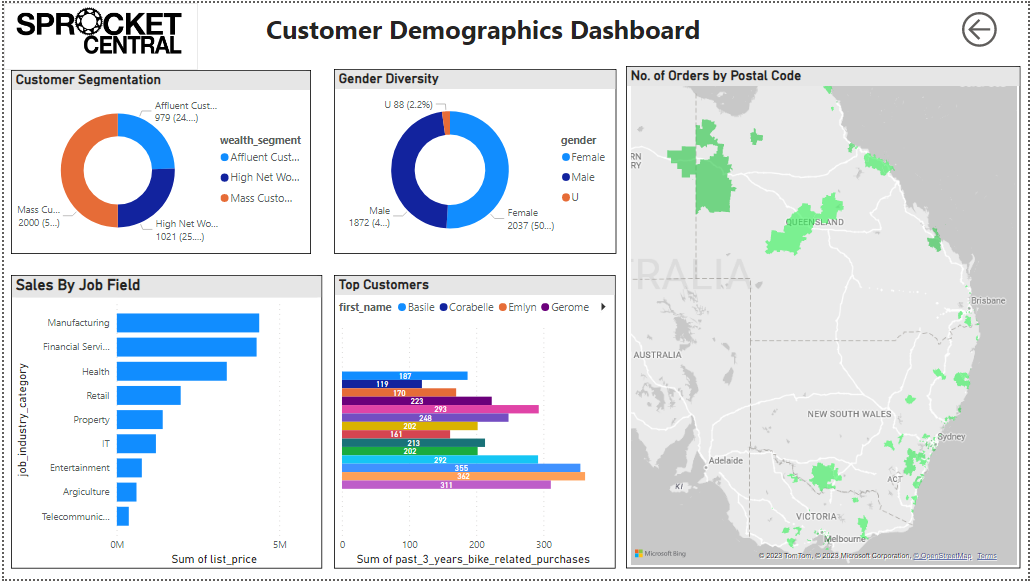

The page's visual inventory and layout, read from the dashboard file:
{"tool":"powerbi","page":{"name":"Demographics db","canvas":[1280,720],"ordinal":1},"visuals":[{"type":"image","box":[0,0,242.2,83.3],"z":0},{"type":"textbox","box":[248.9,5.6,708.9,73.3],"z":1000},{"type":"actionButton","box":[1191.2,5,58.8,56.2],"z":2000},{"type":"donutChart","title":"Customer Segmentation","fields":{"Y":["Count(CustomerDemographic.customer_id)"],"Series":["CustomerDemographic.wealth_segment"]},"box":[8.8,83.8,375,230],"z":3000},{"type":"clusteredBarChart","title":"Sales By Job Field","fields":{"Category":["CustomerDemographic.job_industry_category"],"Y":["Sum(Transactions.list_price)"]},"box":[8.9,340,388.9,366.7],"z":4000},{"type":"donutChart","title":"Gender Diversity","fields":{"Y":["CountNonNull(CustomerDemographic.gender)"],"Series":["CustomerDemographic.gender"]},"box":[412.5,82.5,352.5,231.2],"z":5000},{"type":"filledMap","title":"No. of Orders by Postal Code","fields":{"Category":["CustomerAddress.postcode"]},"box":[777.5,78.8,492.5,627.5],"z":5001},{"type":"clusteredBarChart","title":"Top Customers","fields":{"Y":["Sum(CustomerDemographic.past_3_years_bike_related_purchases)"],"Series":["CustomerDemographic.first_name"]},"box":[412.2,340,352.2,366.7],"z":5002}]}

Visuals, with their boxes in screenshot pixels (x1, y1, x2, y2), scaled from the page's 1280x720 canvas onto the 1030x583 screenshot:
image: pyautogui.locateOnScreen(0, 0, 195, 67)
textbox: pyautogui.locateOnScreen(200, 5, 771, 64)
actionButton: pyautogui.locateOnScreen(959, 4, 1006, 50)
"Customer Segmentation" donutChart: pyautogui.locateOnScreen(7, 68, 309, 254)
"Sales By Job Field" clusteredBarChart: pyautogui.locateOnScreen(7, 275, 320, 572)
"Gender Diversity" donutChart: pyautogui.locateOnScreen(332, 67, 616, 254)
"No. of Orders by Postal Code" filledMap: pyautogui.locateOnScreen(626, 64, 1022, 572)
"Top Customers" clusteredBarChart: pyautogui.locateOnScreen(332, 275, 615, 572)
